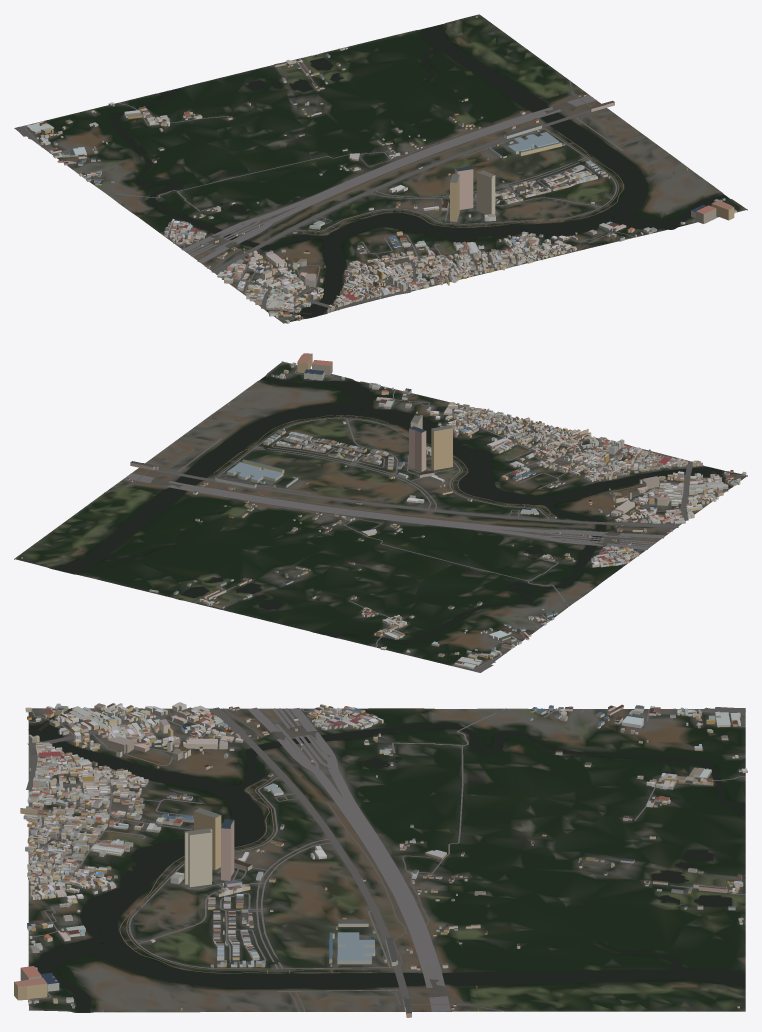
3 views of the same model, one above another, from view 1: azimuth 30°, elevation 25°; view 2: azimuth 150°, elevation 25°; view 3: azimuth 270°, elevation 25° (orthographic). The views are drawn at different scales.
Parts seen in each view (by area): view 1: ground, buildings, water, roads; view 2: ground, buildings, water, roads; view 3: ground, buildings, water, roads.
Part boxes in pixels (x1,y1,x2,y2): ground: (23, 14, 747, 323); buildings: (26, 16, 736, 323); water: (109, 24, 728, 318); roads: (14, 58, 747, 322); ground: (14, 361, 747, 670); buildings: (21, 353, 746, 668); water: (51, 376, 732, 643); roads: (104, 361, 746, 672); ground: (28, 708, 745, 1012); buildings: (14, 702, 747, 1017); water: (28, 708, 745, 1012); roads: (26, 707, 745, 1012).
Bounding box in the file's own units: 1438 × 116 × 1434.
